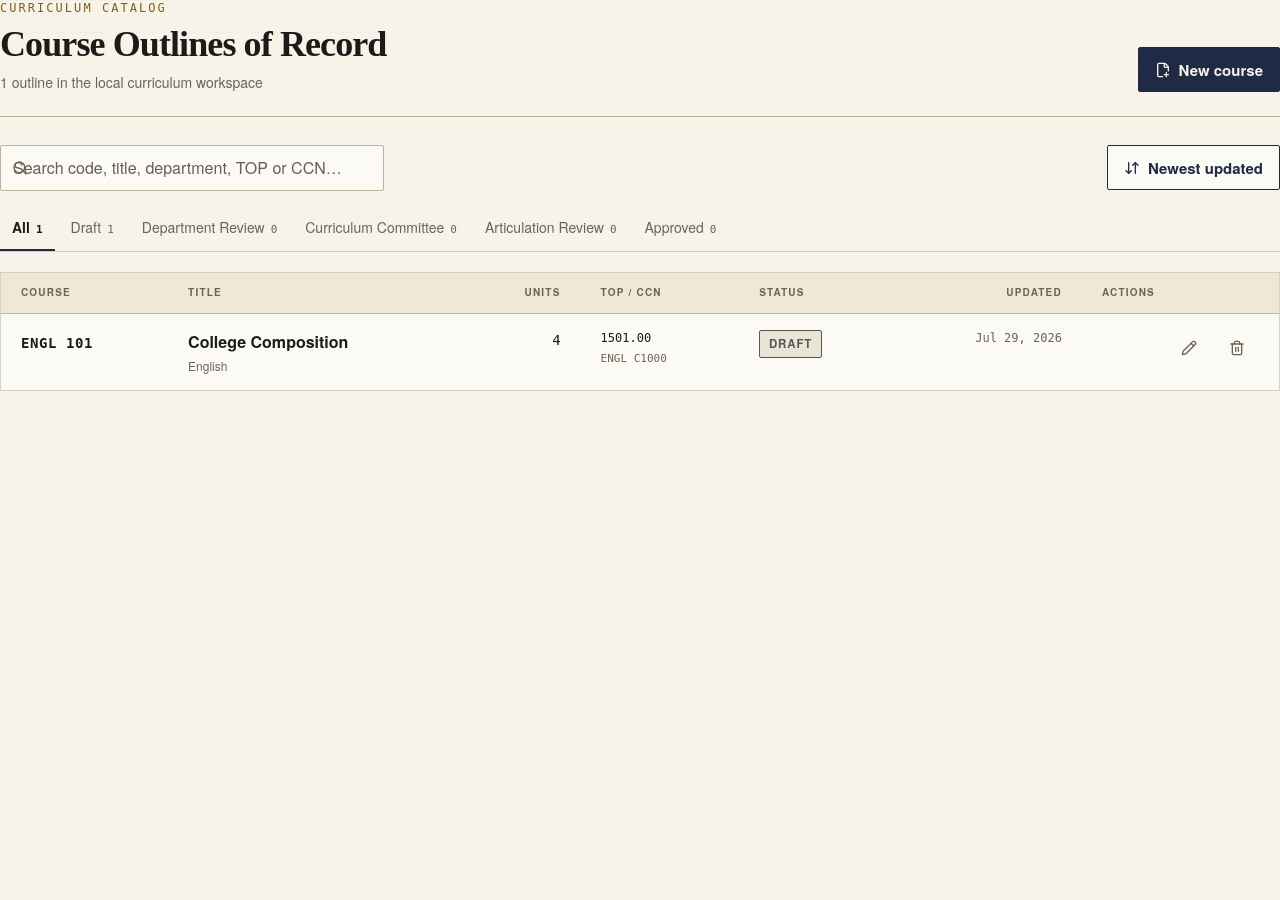
CoursesList › announces a failed deletion inside the still-open confirmation modal
Click the button named "Delete ENGL 101" at x=1237, y=348, box [1215,326,1259,370]
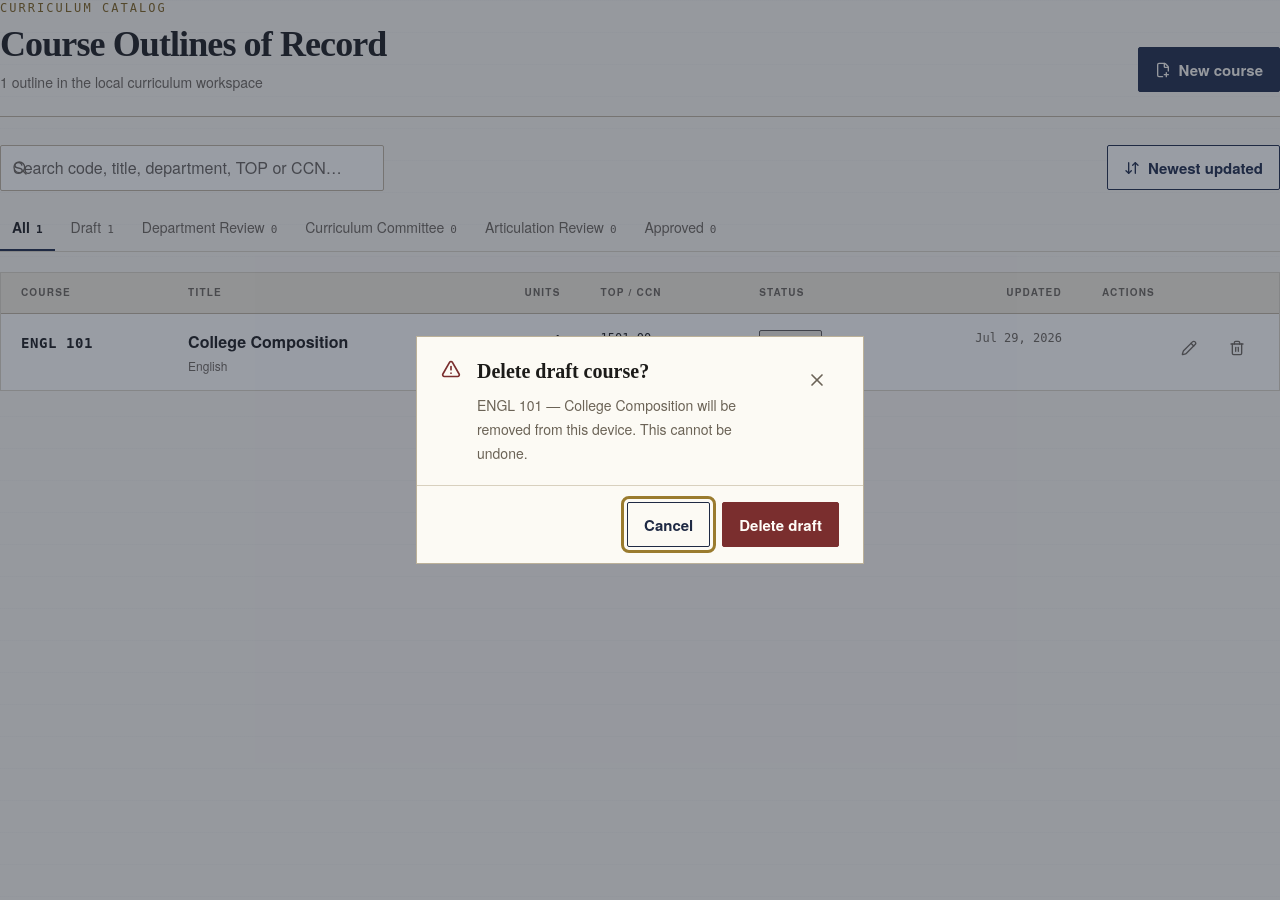
Click the button "Delete draft" at x=781, y=524, box [722,502,839,547]
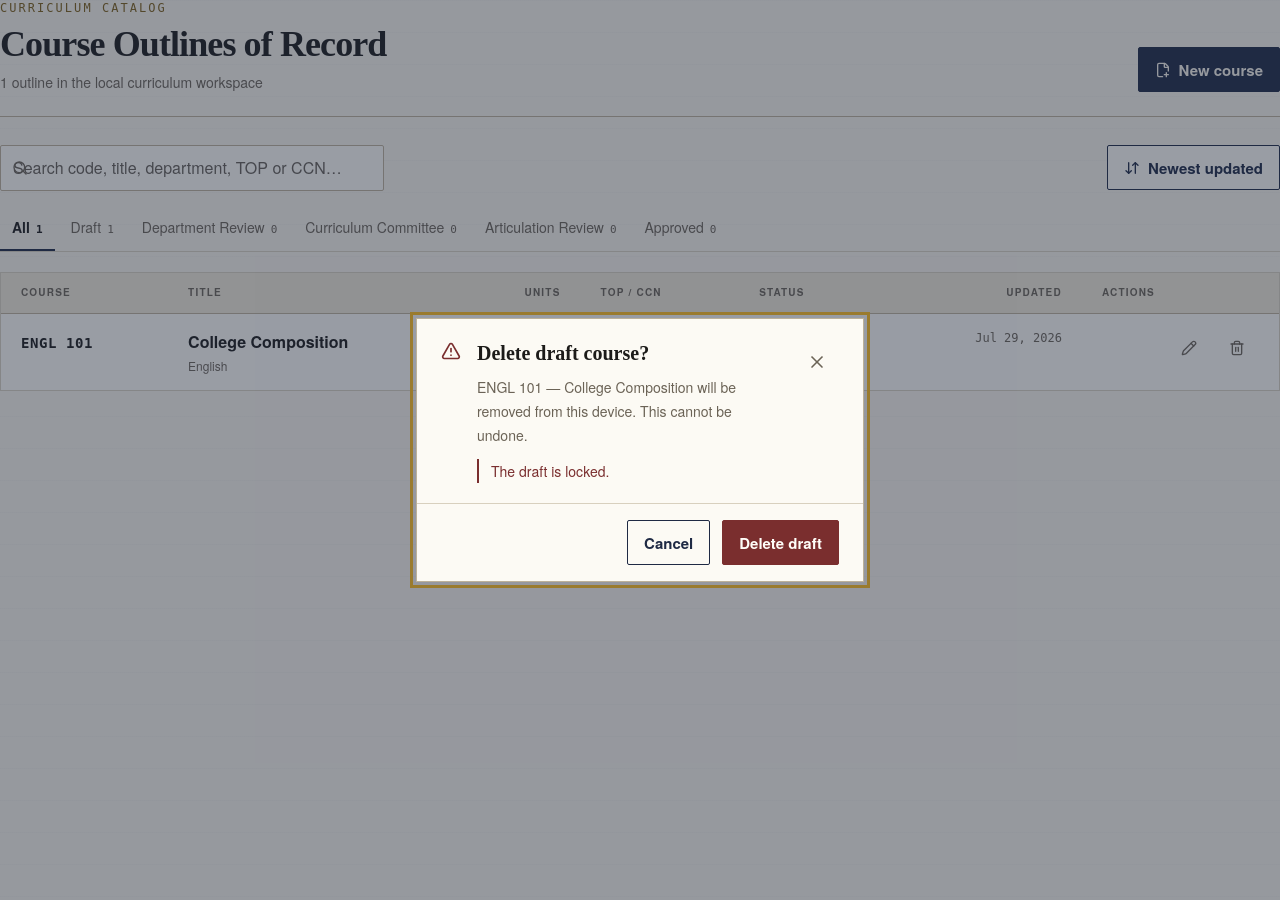
Result: the dialog "Delete draft course?" shows "The draft is locked." at [491,461,609,481]
Result: the message reads "The draft is locked." at [491,461,609,481]
